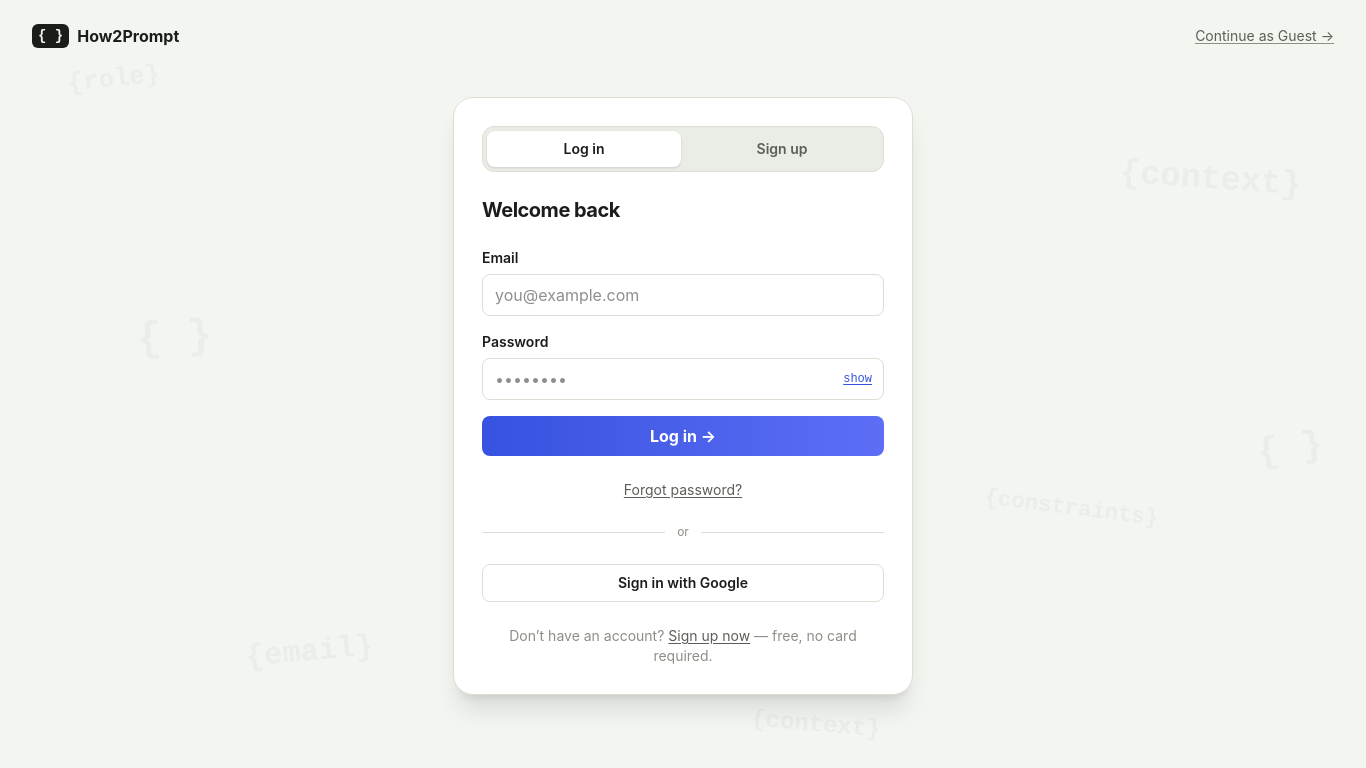
it: LoginPage › shows a resend-verification-email action when login fails as unverified
Type "unverified@example.com" into the field with placeholder "you@example.com".
click(683, 295); type("unverified@example.com")  # box [482, 274, 884, 316]
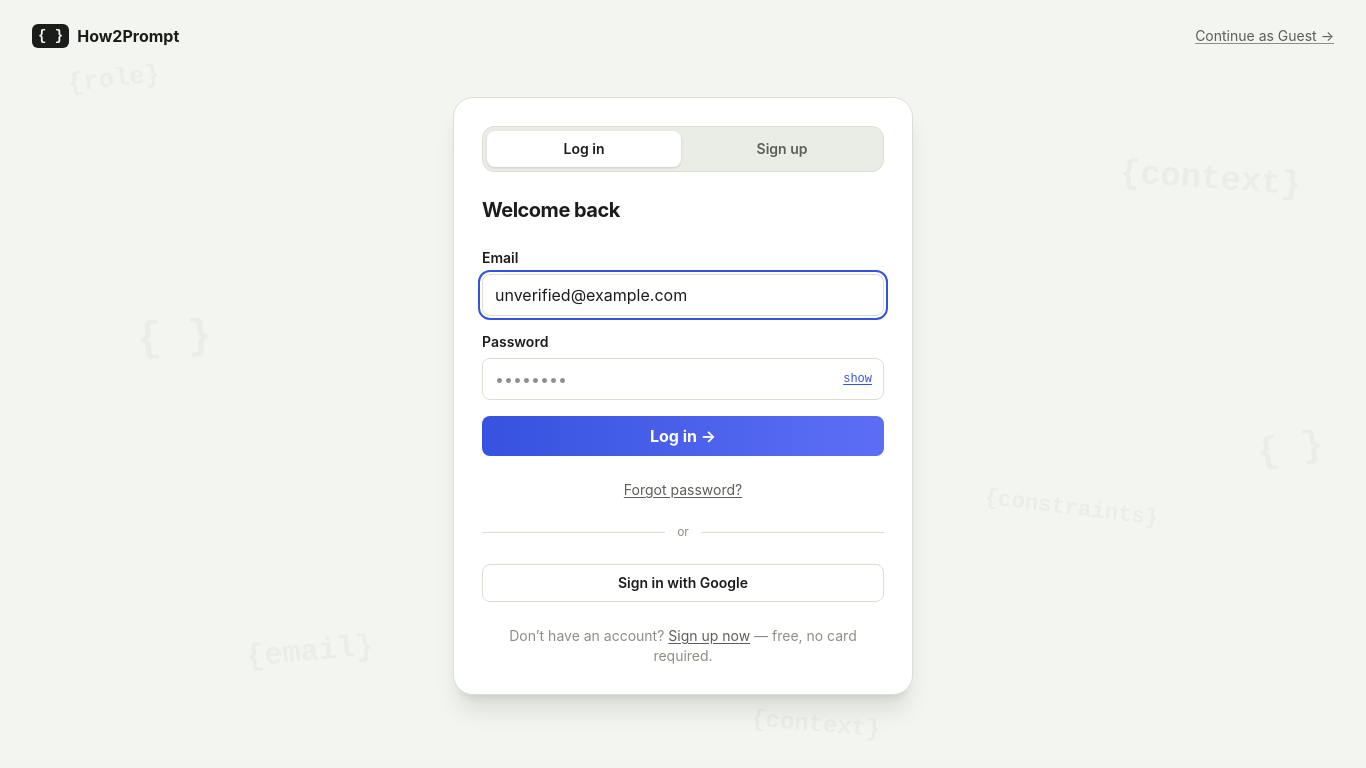
Type "password123" into the password field with placeholder "••••••••".
click(683, 379); type("password123")  # box [482, 358, 884, 400]
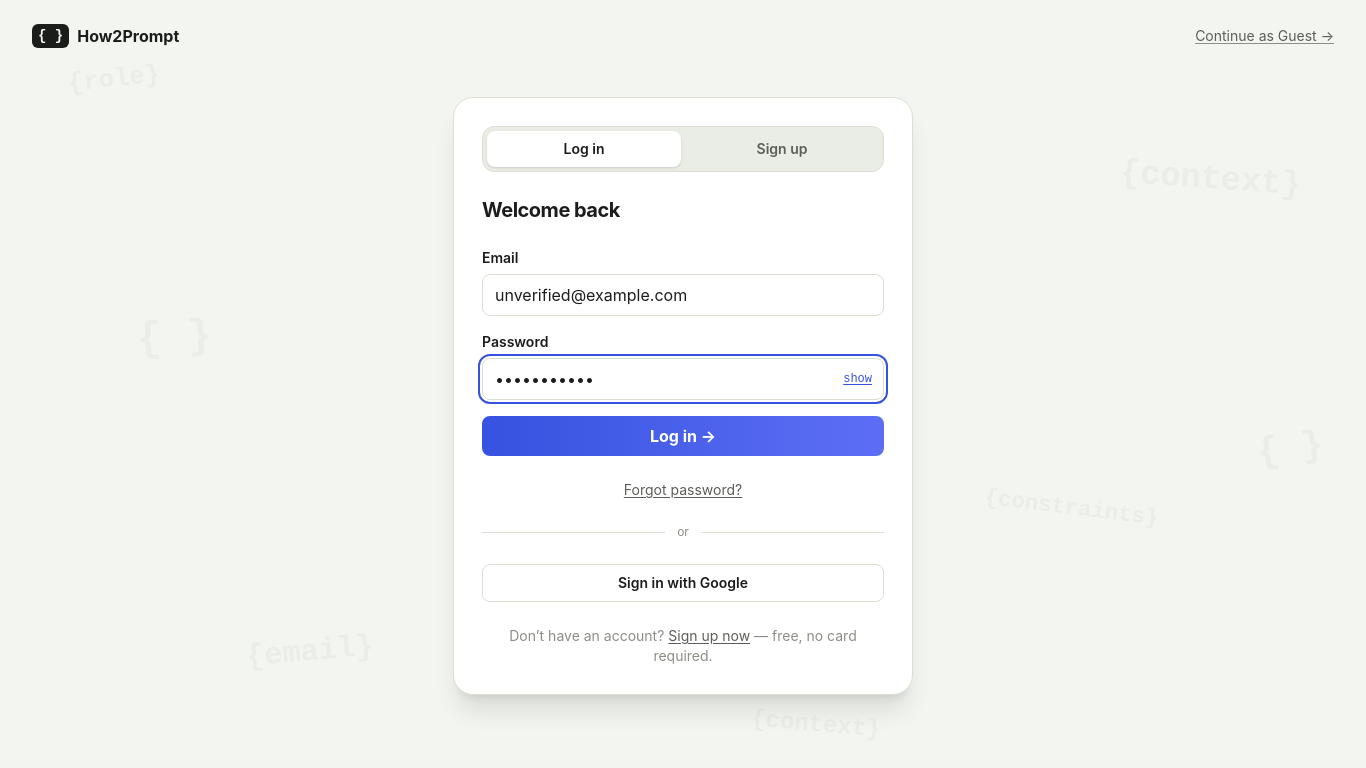
Click the button "Log in →".
click(683, 436)  # box [482, 416, 884, 456]
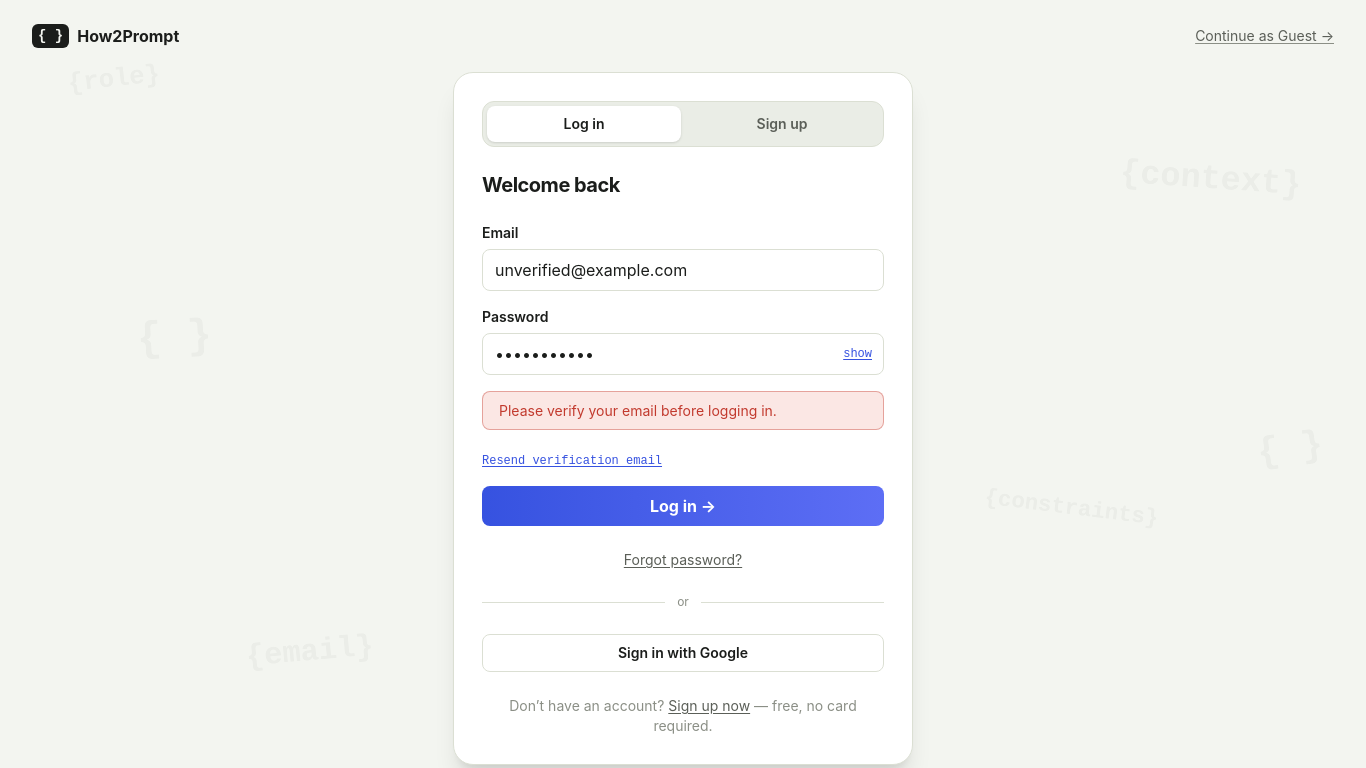
Check: the message shows "Please verify your email before logging in", box [499, 402, 777, 419]
Check: the button "Resend verification email" is shown, box [482, 453, 662, 469]
